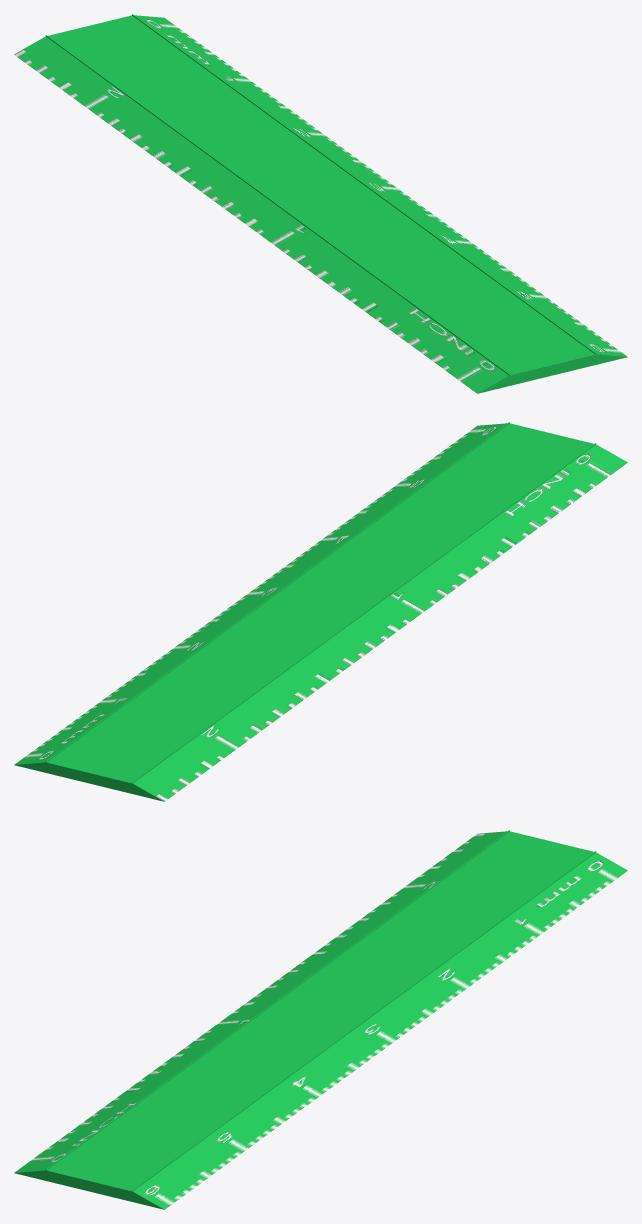
Rendered from ZhiChi.fbx.
3 renders of one model, top to bottom at view 1: azimuth 30°, elevation 25°; view 2: azimuth 150°, elevation 25°; view 3: azimuth 330°, elevation 25°, orthographic.
Visible parts, largest first — view 1: chi; view 2: chi; view 3: chi.
Part boxes in pixels (x1,y1,x2,y2): chi: (14, 14, 627, 393); chi: (14, 422, 627, 801); chi: (14, 830, 627, 1209).
Size of the model in its own units: 6 by 0.441 by 32.
1 material, 1 textured.
